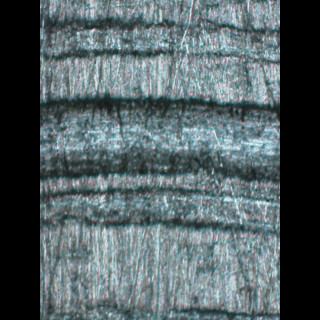d: (40, 93, 279, 234), (41, 5, 279, 67)
